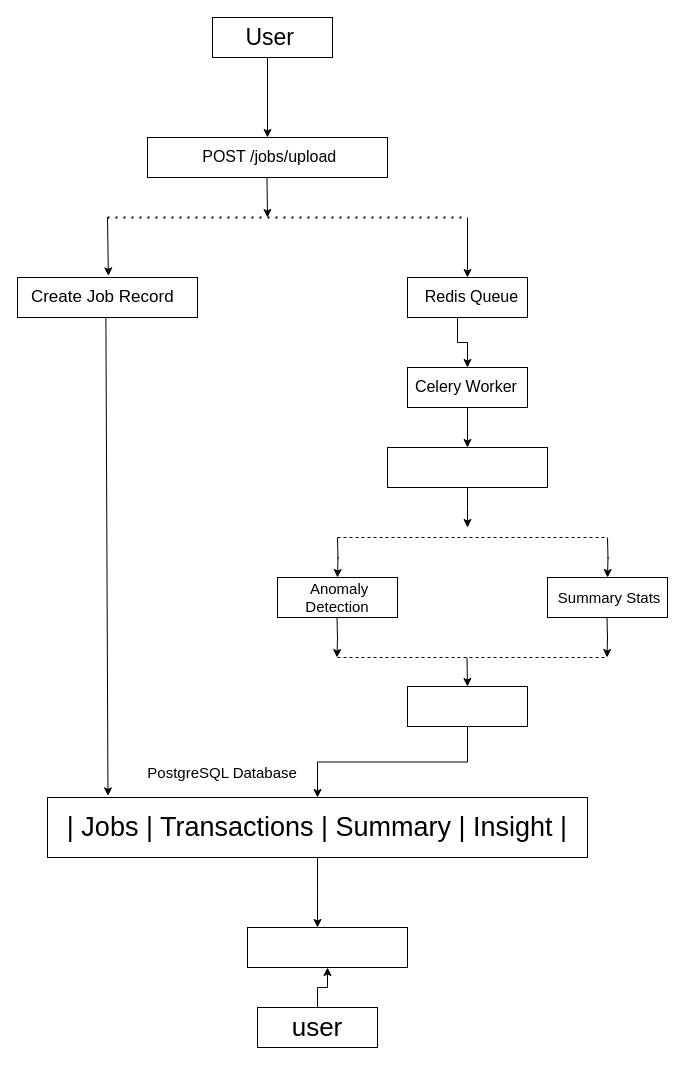
Image size: 685x1065. Some labels were removed from this diagram. Each missing label, with the box of its shape:
Gemini AI: (406, 686, 528, 726)
GET Status / Results: (246, 926, 408, 968)
Pandas CSV Processing: (386, 446, 548, 488)
